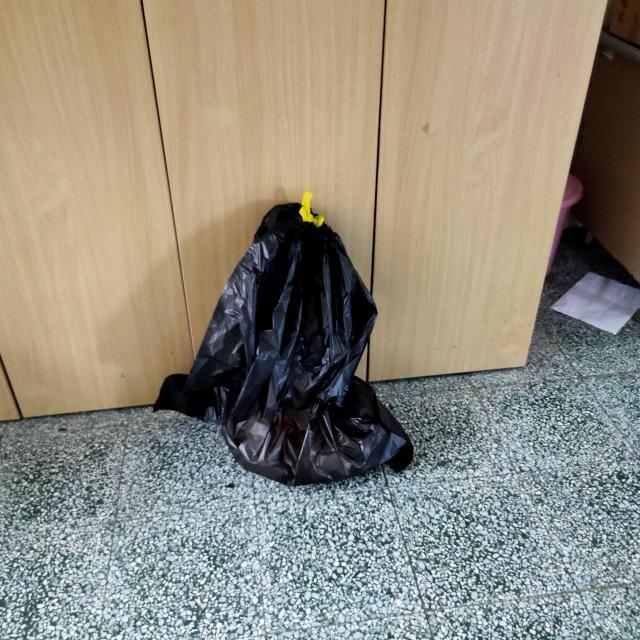Vinyl: (156, 158, 441, 503)
